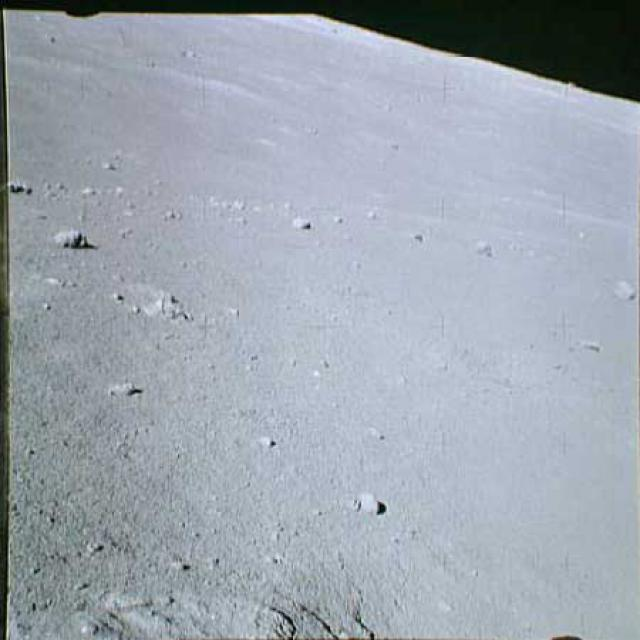rock: (104, 278, 188, 327), (339, 486, 386, 525), (54, 220, 90, 255), (284, 206, 316, 245), (603, 271, 639, 305), (462, 232, 495, 258), (0, 175, 32, 200)
